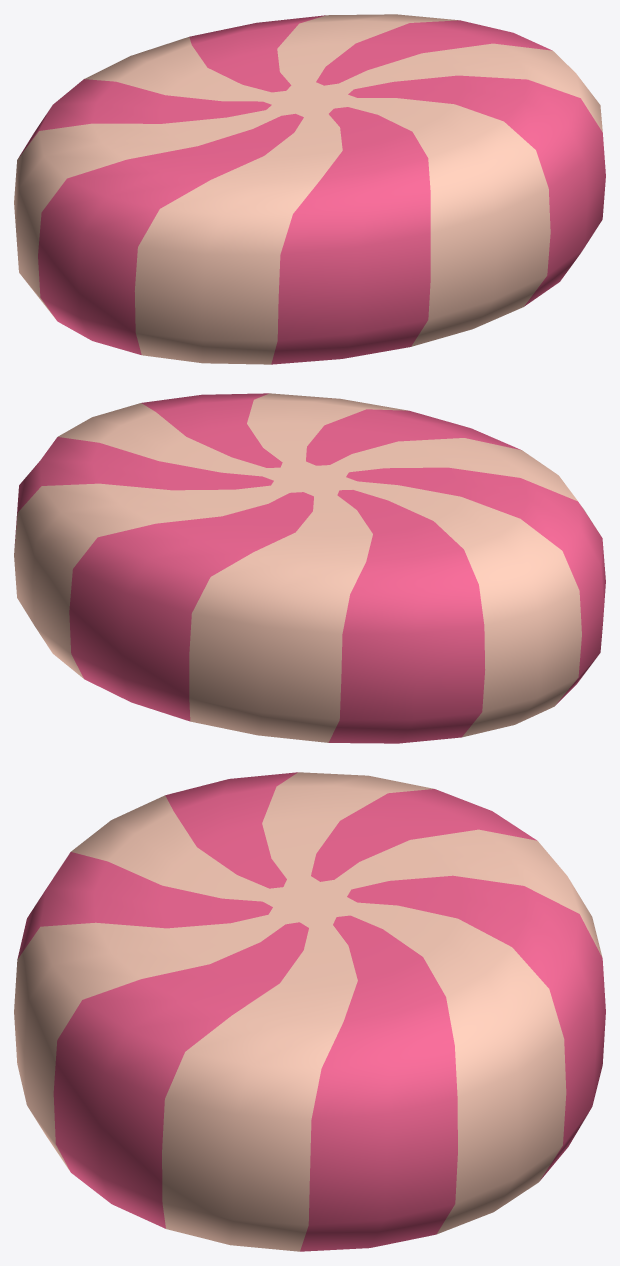
Rendered from Candy_A_03.fbx.
The picture shows the model from 3 angles, top to bottom: view 1: azimuth 30°, elevation 25°; view 2: azimuth 150°, elevation 25°; view 3: azimuth 270°, elevation 25°; orthographic projection. The views are drawn at different scales.
Visible parts, largest first — view 1: Candy_A_03_LOD0; view 2: Candy_A_03_LOD0; view 3: Candy_A_03_LOD0.
Part boxes in pixels (x1,y1,x2,y2): Candy_A_03_LOD0: (14,14,605,364); Candy_A_03_LOD0: (14,393,605,743); Candy_A_03_LOD0: (14,772,605,1251).
Size of what is drawn, in the model's own units: 397 by 125 by 306.
